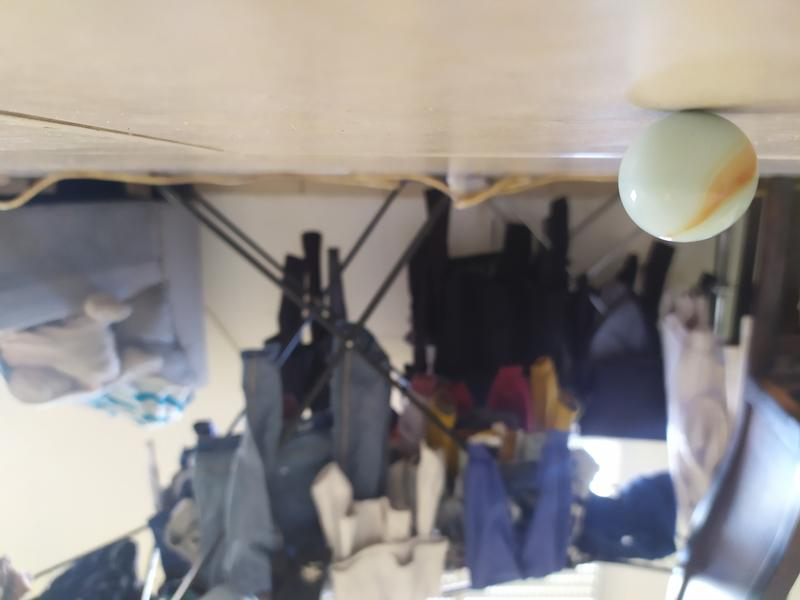Warning: (613, 107, 766, 246)
